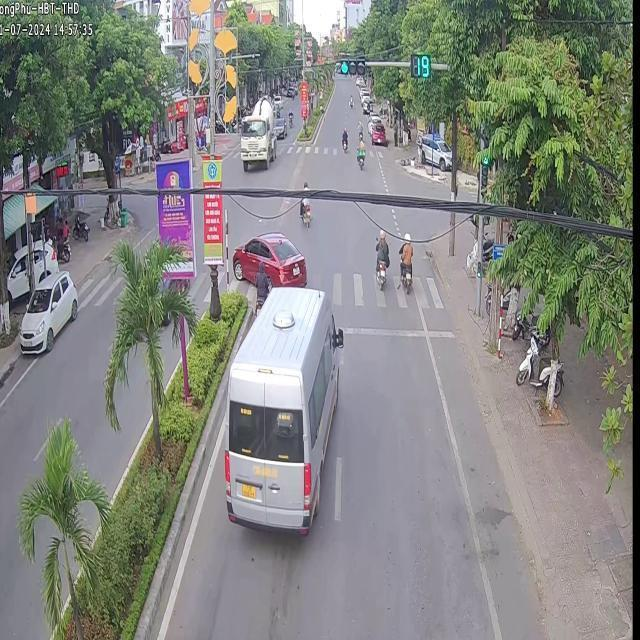car: (223, 285, 342, 534), (18, 269, 77, 351), (230, 231, 306, 285), (238, 94, 274, 168)
green_light: (410, 53, 431, 76), (480, 155, 488, 197), (340, 61, 365, 73)
motobike: (373, 227, 388, 289), (397, 231, 412, 291), (253, 258, 268, 314), (354, 122, 364, 166)
stop_line: (342, 325, 450, 336)
